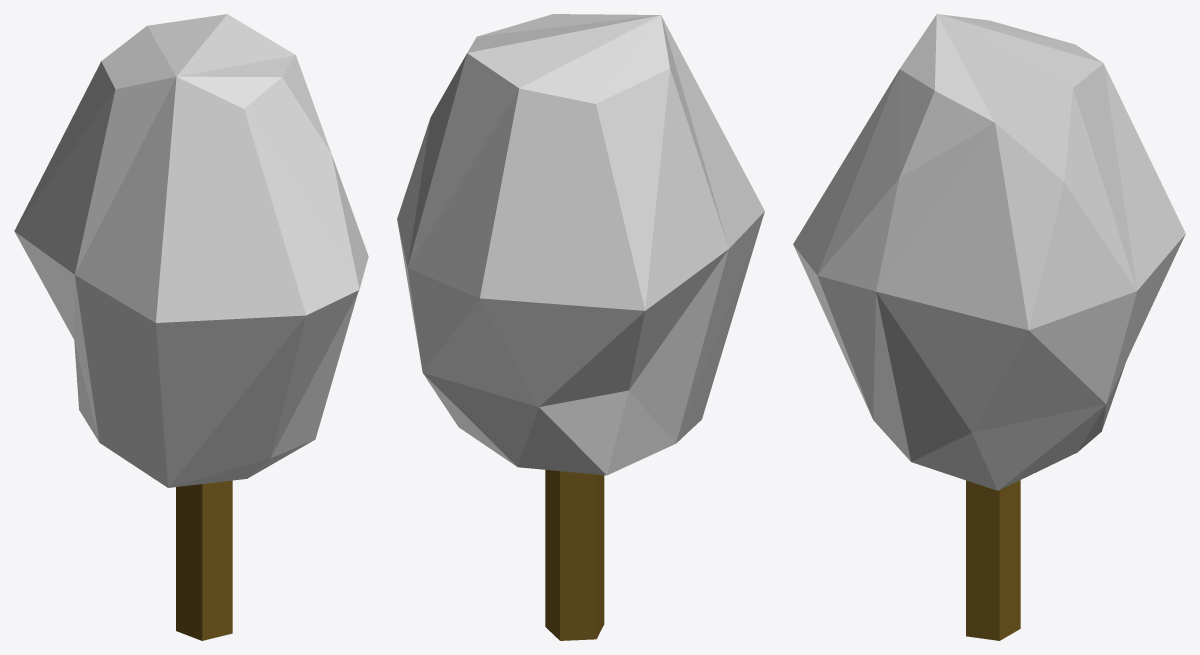
Rendered from maple.glb.
3 views of the same model, side by side, from view 1: azimuth 30°, elevation 25°; view 2: azimuth 150°, elevation 25°; view 3: azimuth 270°, elevation 25° (orthographic). The views are drawn at different scales.
Parts seen in each view (by area): view 1: Maple; view 2: Maple; view 3: Maple.
Part boxes in pixels (x1,y1,x2,y2): Maple: [14, 14, 368, 640]; Maple: [397, 14, 764, 640]; Maple: [793, 14, 1185, 640].
Bounding box in the file's own units: 2.16 × 4.15 × 2.51.
